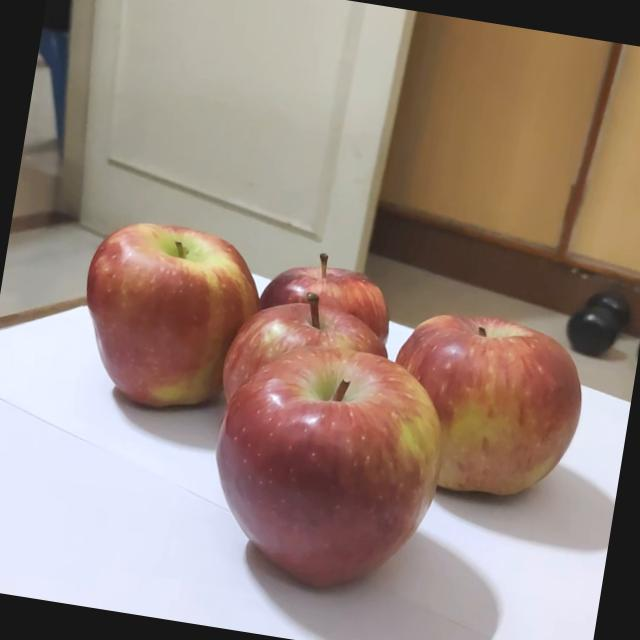apple: (176, 327, 451, 612), (366, 302, 589, 522), (55, 205, 264, 429), (208, 286, 400, 425), (244, 242, 400, 368)
